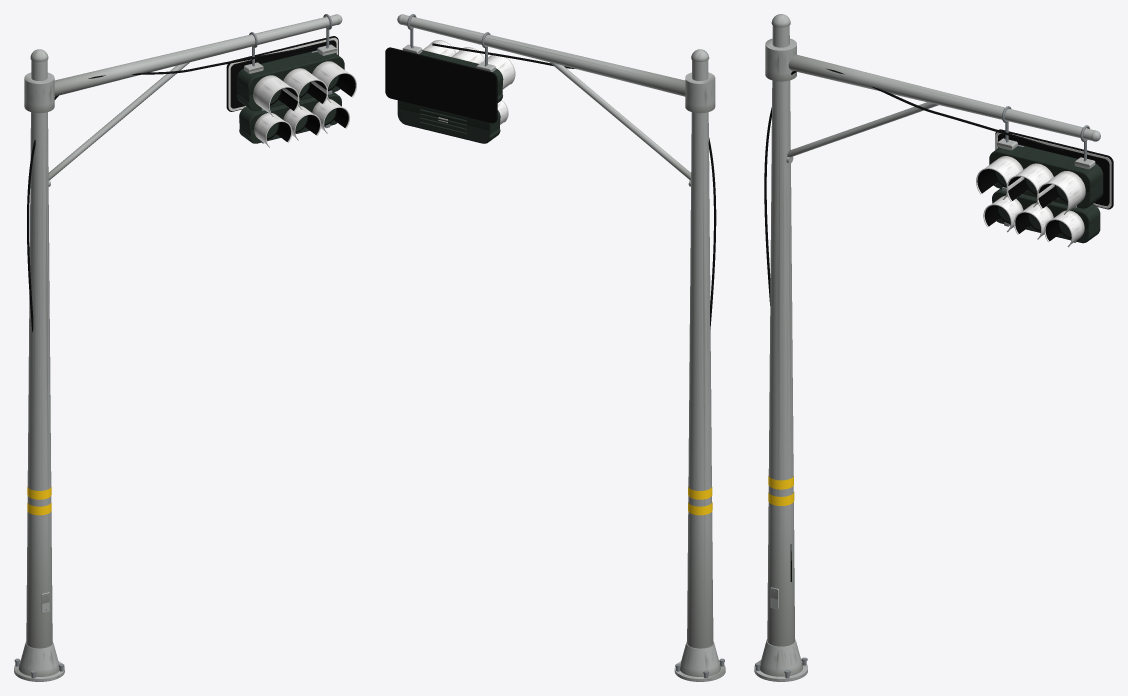
3 views of the same model, side by side, from view 1: azimuth 30°, elevation 25°; view 2: azimuth 150°, elevation 25°; view 3: azimuth 330°, elevation 25° (orthographic). The views are drawn at different scales.
Parts seen in each view (by area): view 1: jp-veh-arrow, opt_backplate_on; view 2: jp-veh-arrow, opt_backplate_on; view 3: jp-veh-arrow, opt_backplate_on.
Part boxes in pixels (box(x1,y1,x2,y2)): jp-veh-arrow: box(14, 14, 356, 681); opt_backplate_on: box(226, 36, 338, 111); jp-veh-arrow: box(397, 14, 725, 681); opt_backplate_on: box(385, 47, 497, 123); jp-veh-arrow: box(754, 14, 1103, 681); opt_backplate_on: box(995, 129, 1113, 209).
Bounding box in the file's own units: 3.54 × 6.38 × 0.6577.
23 materials, 3 textured.
